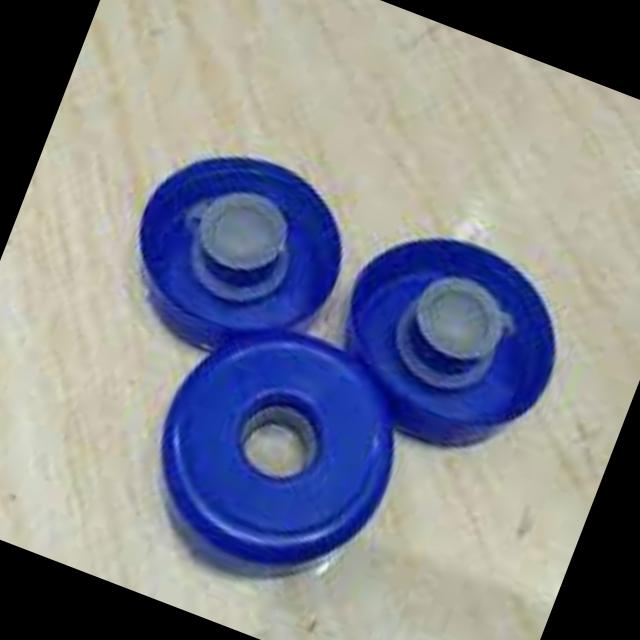TutupGalon: (31, 118, 591, 640)
